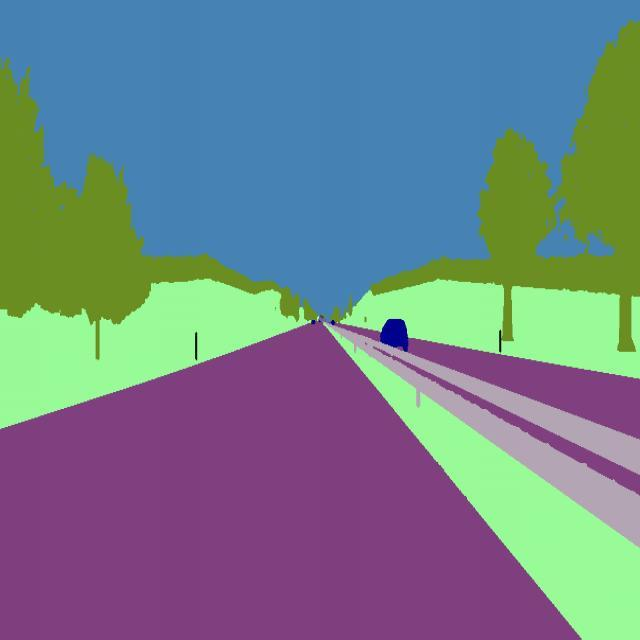safe: (378, 314, 414, 354)
